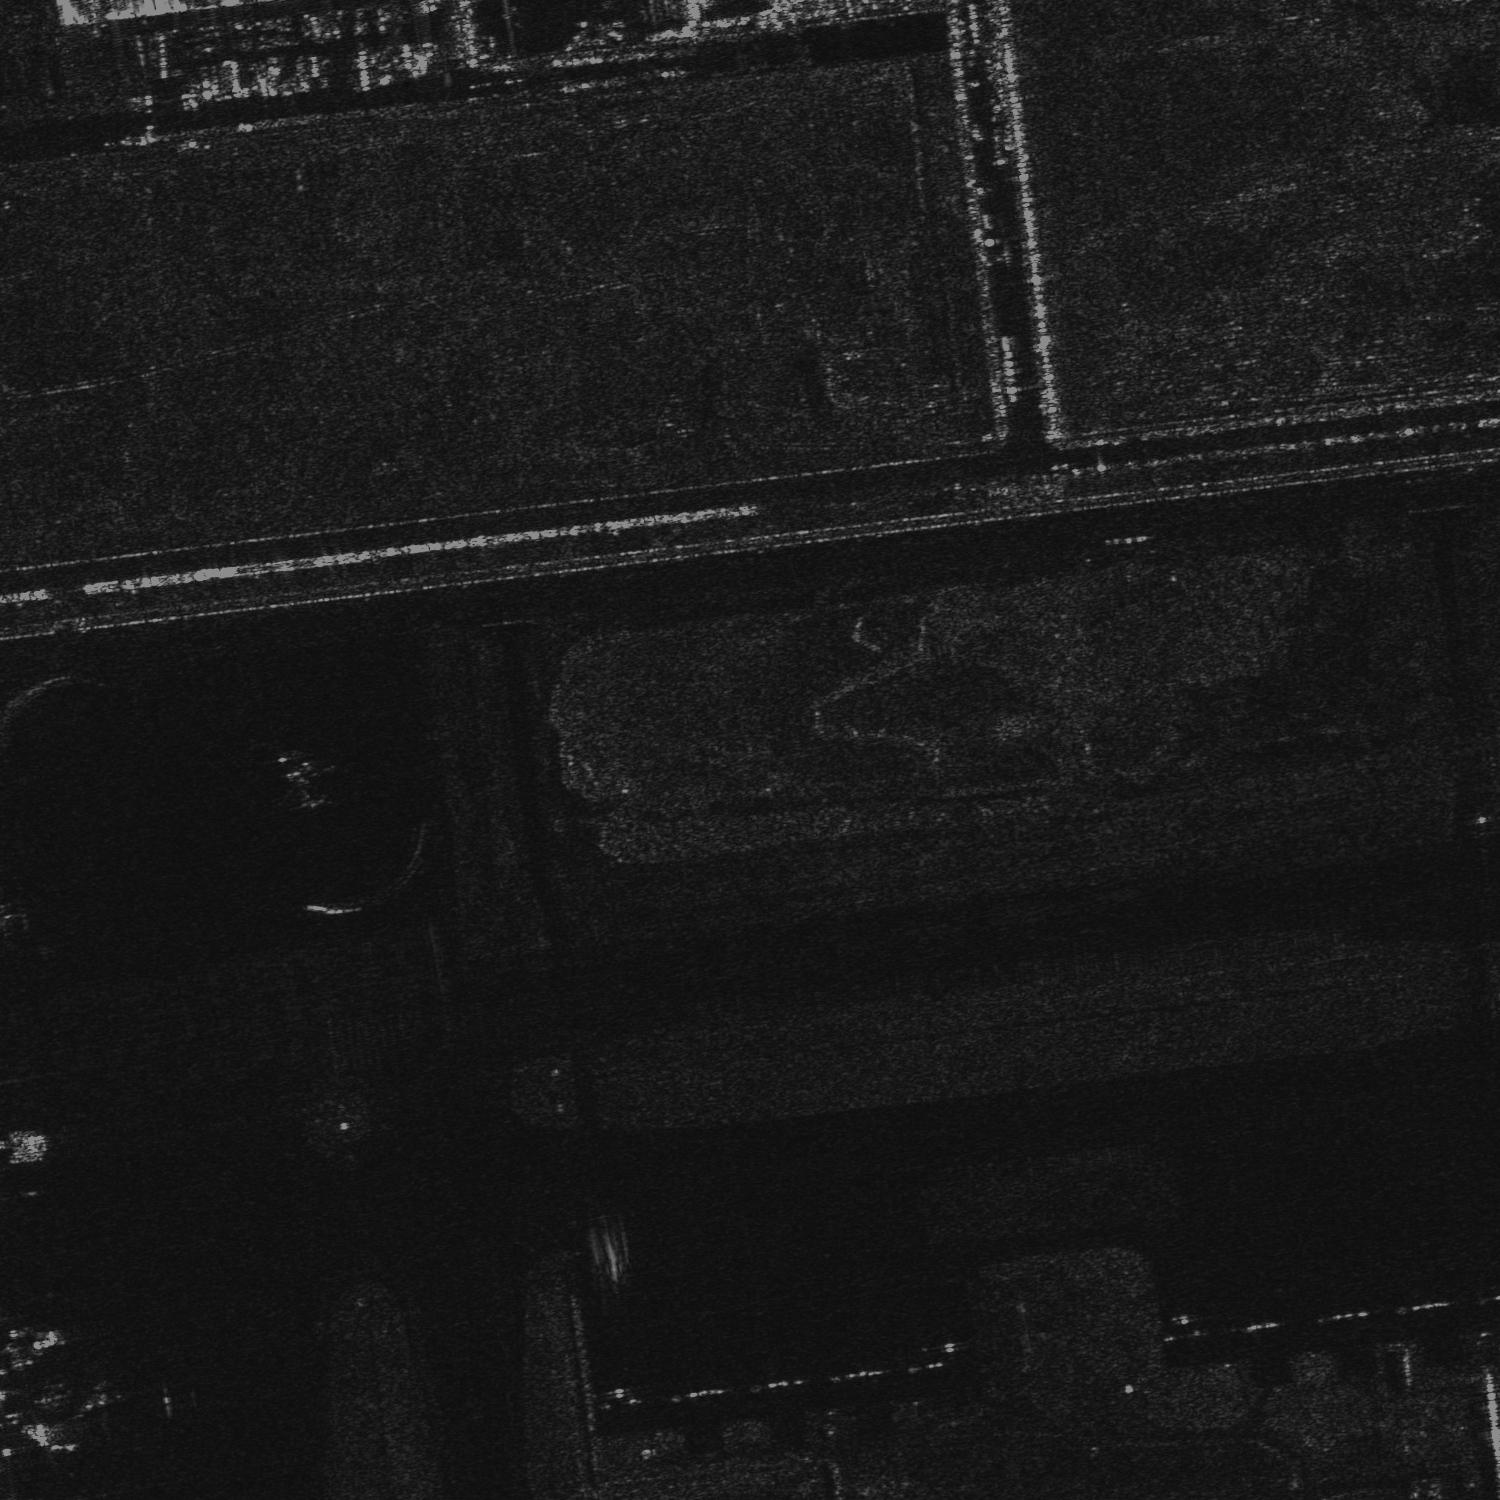A220: (268, 753, 337, 810)
